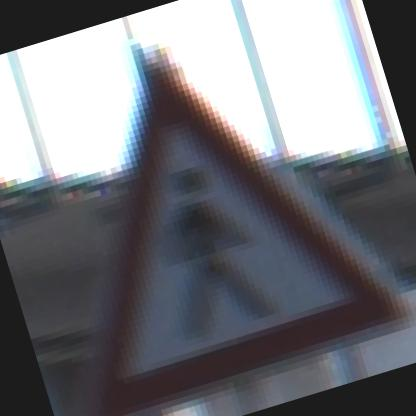crosswalk: (0, 6, 407, 415)
